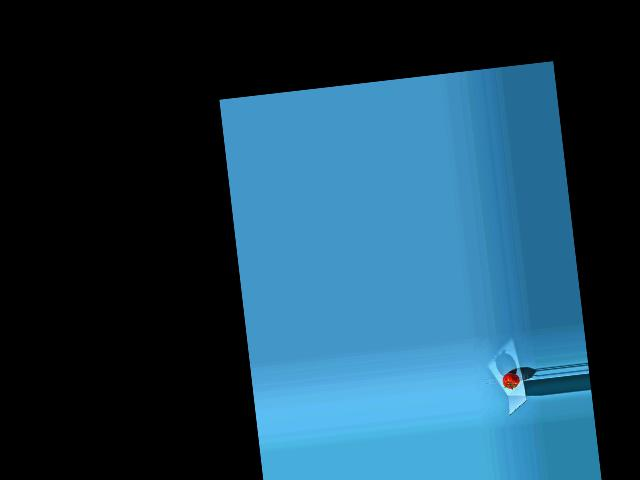tomato: (502, 371, 521, 389)
